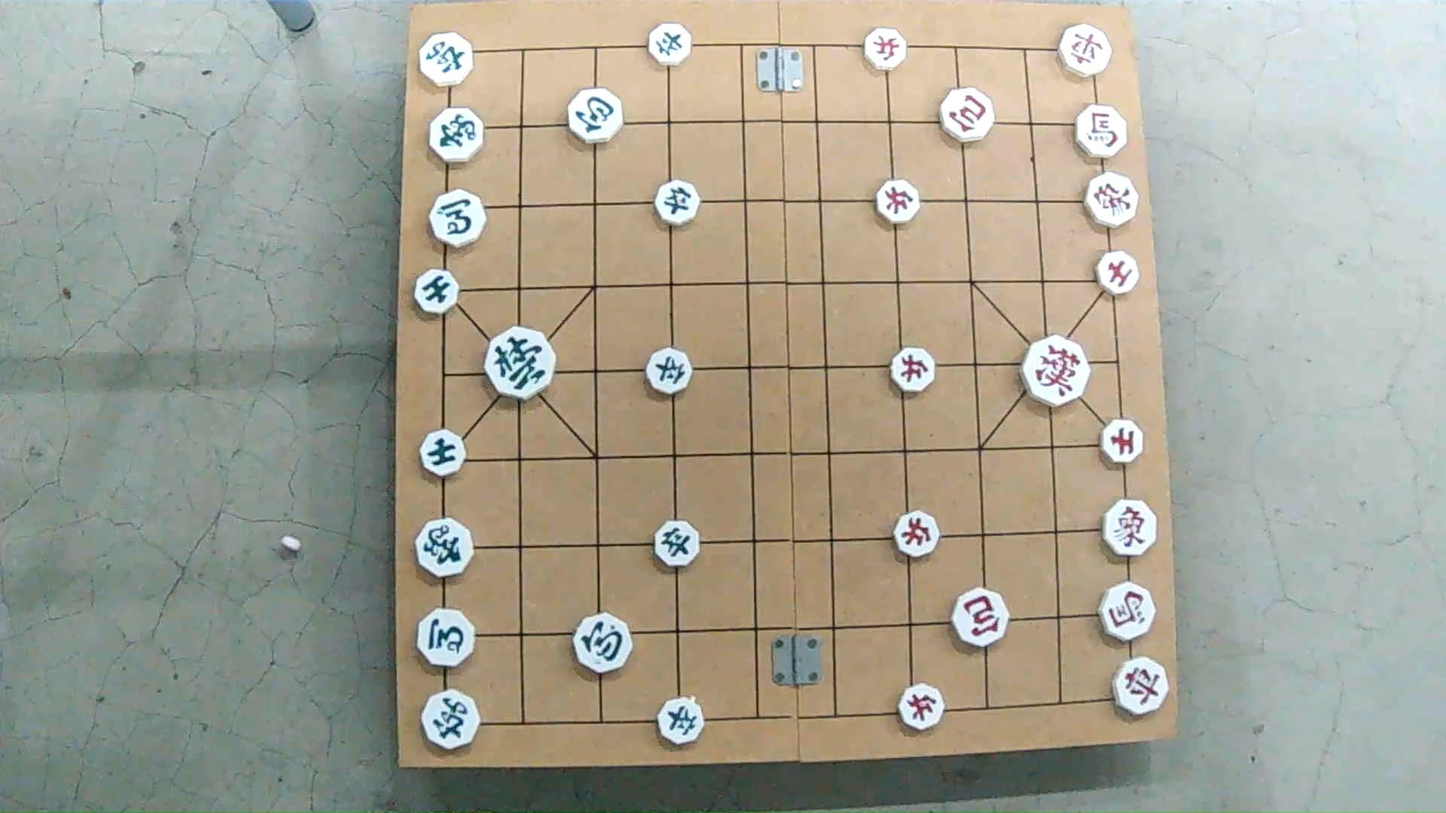cha_green: (422, 690, 483, 748), (417, 31, 475, 88)
cha_red: (1115, 656, 1168, 713), (1057, 26, 1110, 74)
jol_green: (656, 698, 707, 744), (652, 522, 700, 567), (648, 349, 693, 396), (653, 184, 700, 227), (645, 24, 690, 66)
jol_red: (890, 513, 937, 557), (887, 349, 936, 391), (895, 687, 941, 731), (874, 183, 919, 225), (862, 30, 906, 71)
ma_green: (416, 610, 477, 668), (429, 193, 485, 246)
ma_red: (1100, 583, 1158, 637), (1074, 108, 1129, 159)
po_green: (573, 612, 633, 673), (568, 88, 626, 145)
po_red: (952, 592, 1008, 648), (940, 91, 994, 142)
sa_green: (415, 266, 460, 315), (416, 431, 462, 475)
sa_red: (1104, 421, 1146, 462), (1099, 251, 1139, 293)
sang_green: (417, 522, 479, 579), (430, 105, 483, 163)
sang_red: (1103, 503, 1158, 557), (1087, 172, 1139, 224)
wang_green: (484, 330, 555, 397)
wang_red: (1020, 339, 1089, 404)
